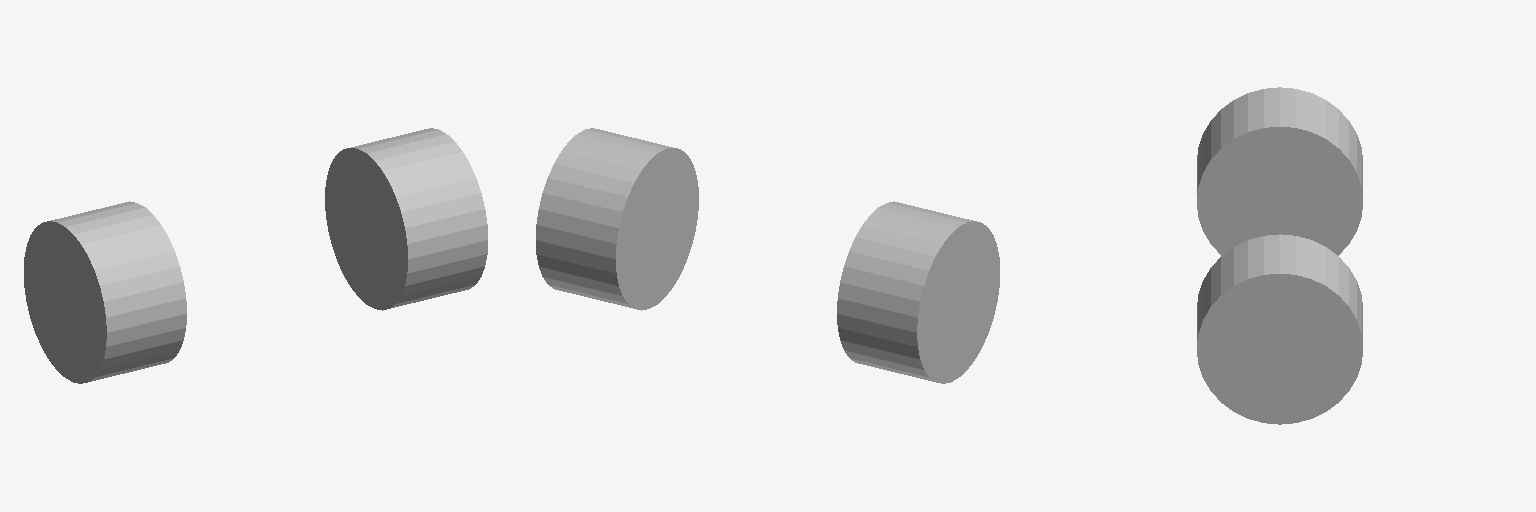
The model's file is player_Front.obj.
3 renders of one model, left to right at view 1: azimuth 30°, elevation 25°; view 2: azimuth 150°, elevation 25°; view 3: azimuth 270°, elevation 25°, orthographic.
Parts seen in each view (by area): view 1: 円柱.001; view 2: 円柱.001; view 3: 円柱.001.
Part boxes in pixels (bbox=[...]): 円柱.001: bbox=[24, 128, 487, 383]; 円柱.001: bbox=[536, 128, 999, 383]; 円柱.001: bbox=[1197, 87, 1362, 424].
Bounding box in the file's own units: 2.38 × 0.9 × 0.9.